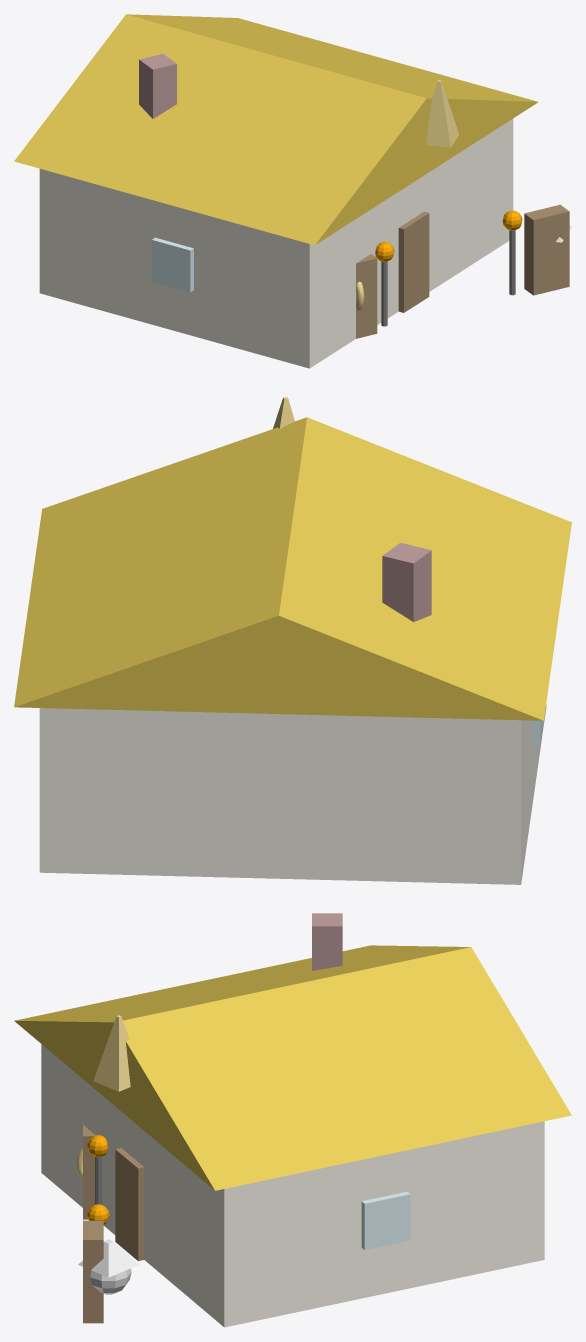
The model's file is house_zeus.glb.
3 renders of one model, top to bottom at view 1: azimuth 30°, elevation 25°; view 2: azimuth 150°, elevation 25°; view 3: azimuth 270°, elevation 25°, orthographic. The views are drawn at different scales.
Visible parts, largest first — view 1: zeus_atap.001, zeus_dinding.001, zeus_rak_kanan.001, zeus_pintu.001, zeus_cerobong.001, zeus_jendela_1.001, zeus_rak_kiri.001, zeus_petir.001, zeus_obor_kanan_tiang.001, zeus_obor_kiri_tiang.001; view 2: zeus_atap.001, zeus_dinding.001, zeus_cerobong.001; view 3: zeus_atap.001, zeus_dinding.001, zeus_pintu.001, zeus_jendela_-1.001, zeus_rak_kanan.001, zeus_petir.001, zeus_cerobong.001, zeus_elang_sayap.001, zeus_rak_kiri.001, zeus_elang.001.
Part boxes in pixels (left/top/right/bottom): zeus_atap.001: left=14, top=14, right=538, bottom=245; zeus_dinding.001: left=39, top=118, right=513, bottom=368; zeus_rak_kanan.001: left=524, top=204, right=569, bottom=295; zeus_pintu.001: left=398, top=211, right=429, bottom=312; zeus_cerobong.001: left=139, top=54, right=176, bottom=118; zeus_jendela_1.001: left=152, top=237, right=193, bottom=292; zeus_rak_kiri.001: left=356, top=254, right=377, bottom=338; zeus_petir.001: left=426, top=80, right=458, bottom=147; zeus_obor_kanan_tiang.001: left=509, top=230, right=515, bottom=295; zeus_obor_kiri_tiang.001: left=381, top=261, right=387, bottom=326; zeus_atap.001: left=14, top=417, right=571, bottom=720; zeus_dinding.001: left=39, top=704, right=546, bottom=884; zeus_cerobong.001: left=382, top=542, right=431, bottom=621; zeus_atap.001: left=14, top=945, right=571, bottom=1190; zeus_dinding.001: left=41, top=1044, right=544, bottom=1327; zeus_pintu.001: left=115, top=1148, right=144, bottom=1261; zeus_jendela_-1.001: left=361, top=1191, right=410, bottom=1249; zeus_rak_kanan.001: left=83, top=1220, right=103, bottom=1323; zeus_petir.001: left=93, top=1015, right=130, bottom=1091; zeus_cerobong.001: left=312, top=913, right=342, bottom=970; zeus_elang_sayap.001: left=78, top=1239, right=138, bottom=1277; zeus_rak_kiri.001: left=83, top=1125, right=95, bottom=1219; zeus_elang.001: left=90, top=1260, right=131, bottom=1294.
Size of the model in its own units: 11.36 by 5.3 by 10.91.
